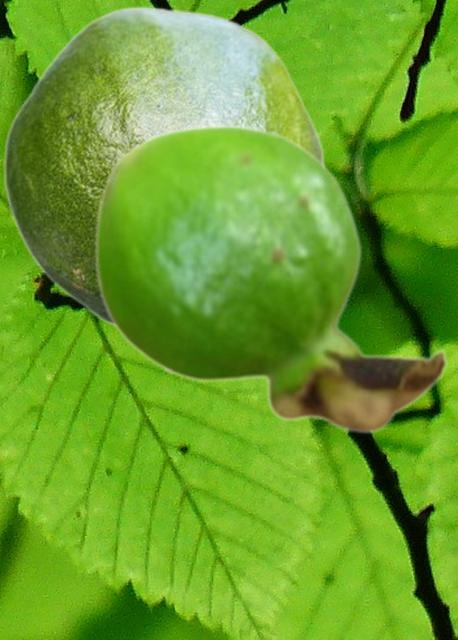guava: (2, 6, 325, 373), (93, 123, 448, 434)
